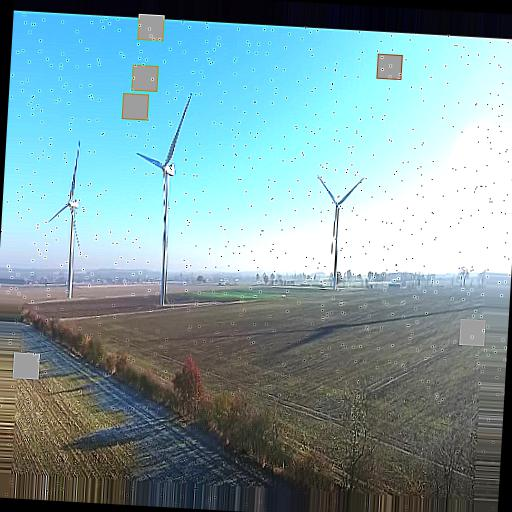wind turbine: (134, 93, 194, 305), (42, 139, 85, 299), (312, 175, 365, 286)
